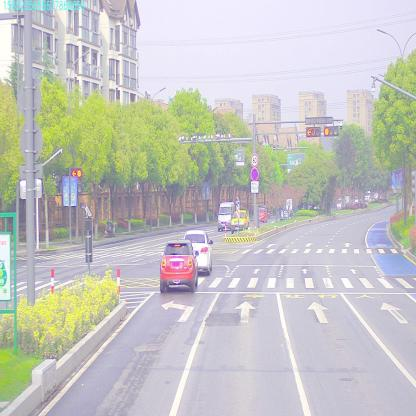traffic-light: (326, 126, 342, 136), (306, 128, 323, 137)
